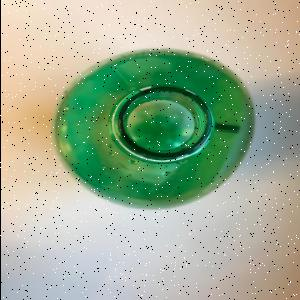Plastic-bottle: (54, 48, 258, 212)
